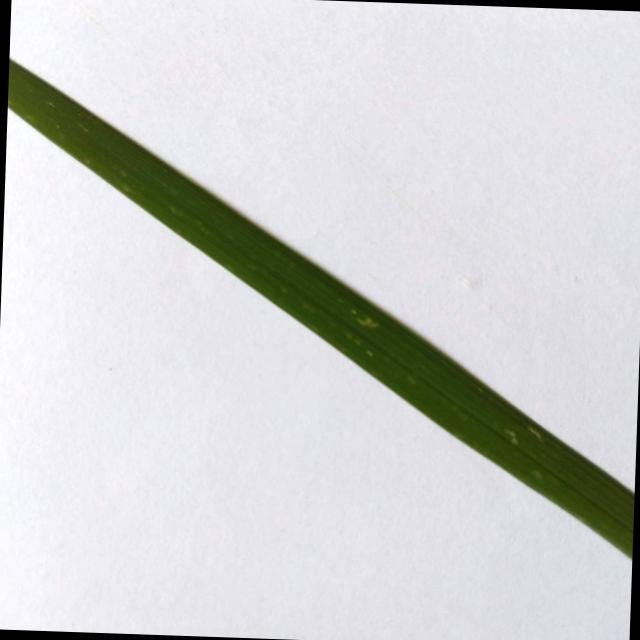Rice_Healthy: (7, 59, 634, 557)
